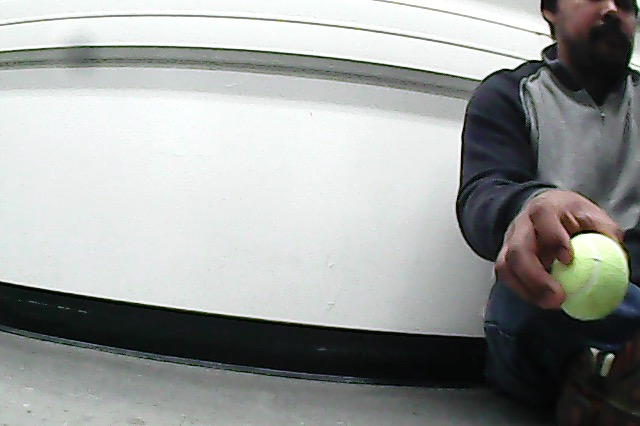ball: (549, 231, 631, 323)
